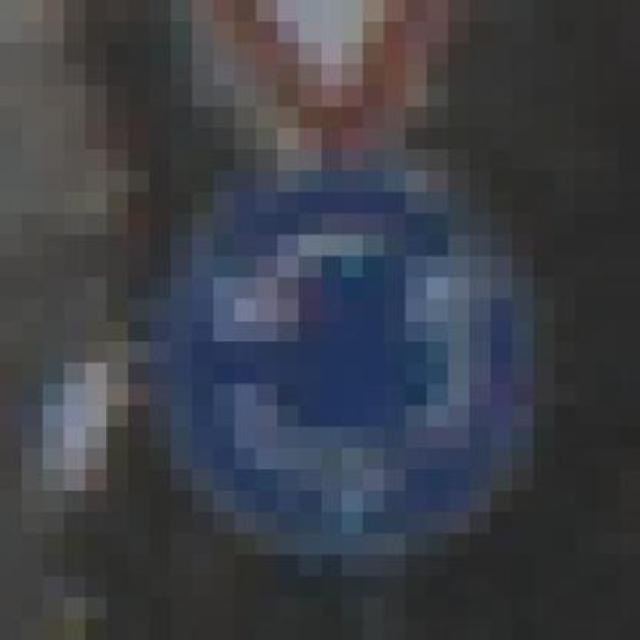Round-About: (107, 107, 576, 576)
